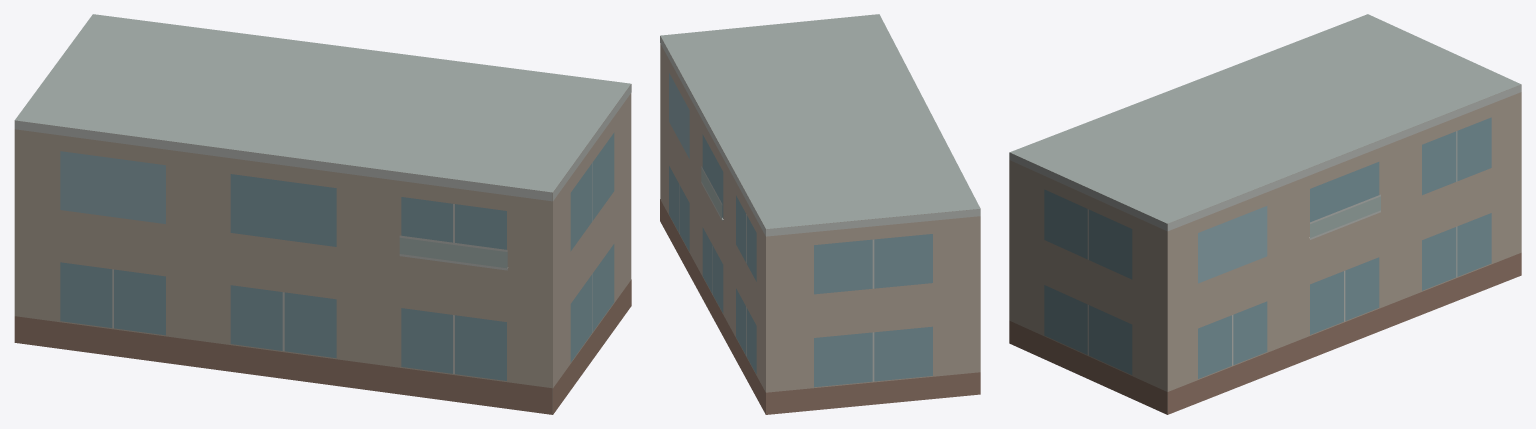
The model's file is survey-upis-32585041.glb.
3 renders of one model, left to right at view 1: azimuth 30°, elevation 25°; view 2: azimuth 150°, elevation 25°; view 3: azimuth 270°, elevation 25°, orthographic. The views are drawn at different scales.
Parts seen in each view (by area): view 1: survey-upis-32585041.tmp; view 2: survey-upis-32585041.tmp; view 3: survey-upis-32585041.tmp.
Part boxes in pixels (x1,y1,x2,y2): survey-upis-32585041.tmp: [14, 14, 631, 414]; survey-upis-32585041.tmp: [660, 14, 980, 414]; survey-upis-32585041.tmp: [1009, 14, 1521, 414].
Bounding box in the file's own units: 14.37 × 6.1 × 14.82.
